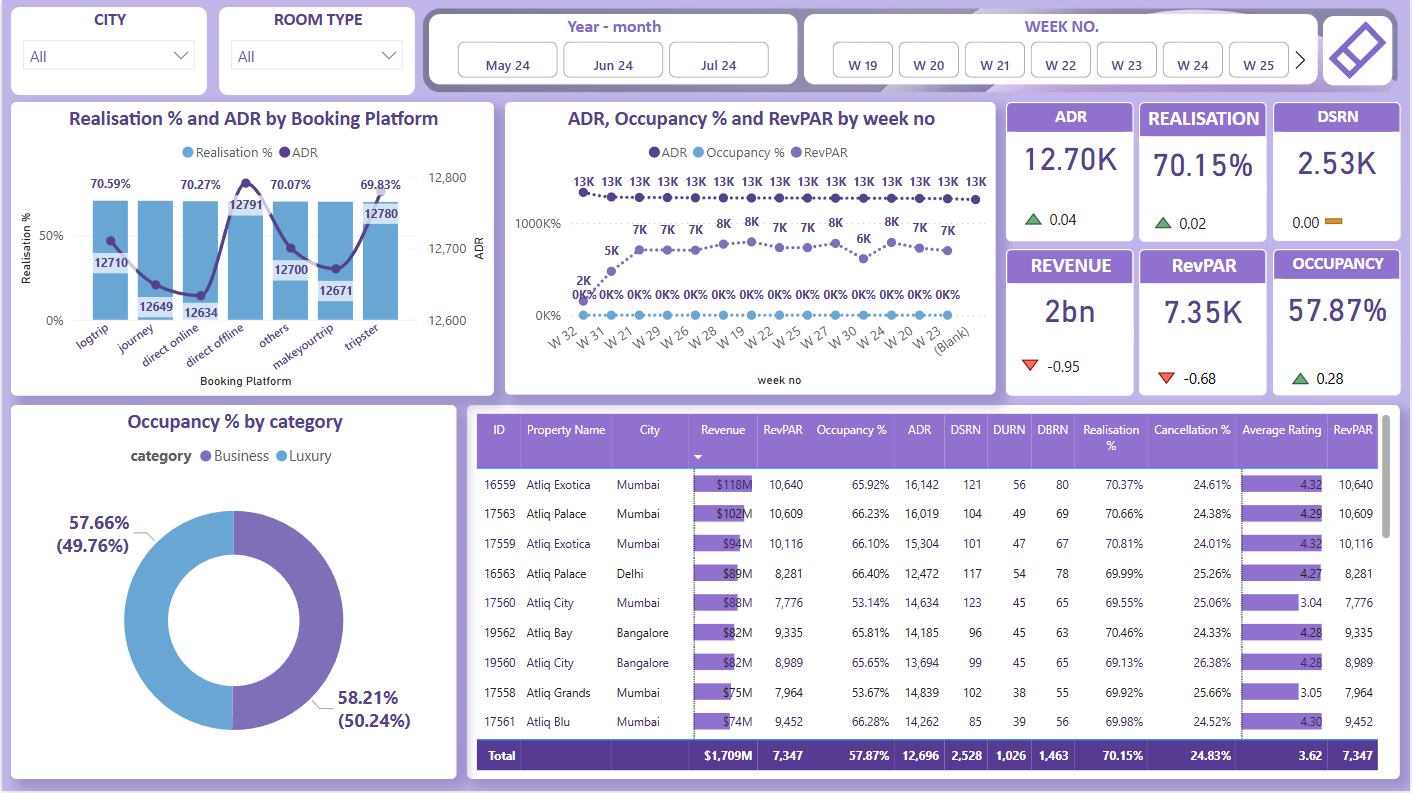

Layout of this report page (visuals, bound fields, positions):
{"tool":"powerbi","page":{"name":"Page 1","canvas":[1280,720],"ordinal":0},"visuals":[{"type":"card","title":"ADR","fields":{"Values":["_Key_Measures.ADR"]},"box":[913,94,116,81],"z":0,"group":"g1"},{"type":"card","title":"DSRN","fields":{"Values":["_Key_Measures.DSRN"]},"box":[1155,94,116,87.7],"z":0,"group":"g2"},{"type":"card","title":"REVENUE","fields":{"Values":["_Key_Measures.Revenue"]},"box":[913,227,116,86.4],"z":0,"group":"g3"},{"type":"card","title":"RevPAR","fields":{"Values":["_Key_Measures.RevPAR"]},"box":[1034,227,116,87],"z":0,"group":"g4"},{"type":"card","title":"OCCUPANCY","fields":{"Values":["_Key_Measures.Occupancy %"]},"box":[1155,227,116,87],"z":0,"group":"g5"},{"type":"tableEx","fields":{"Values":["Dim_Hotels.property_id","Dim_Hotels.property_name","Dim_Hotels.city","_Key_Measures.Revenue","_Key_Measures.RevPAR","_Key_Measures.Occupancy %","_Key_Measures.ADR","_Key_Measures.DSRN","_Key_Measures.DURN","_Key_Measures.DBRN","_Key_Measures.Realisation %","_Key_Measures.Cancellation %"]},"box":[423,369,848,340],"z":0},{"type":"slicer","title":"CITY","fields":{"Values":["Dim_Hotels.city"]},"box":[8,7,178,80],"z":1000},{"type":"card","title":"REALISATION","fields":{"Values":["_Key_Measures.Realisation %"]},"box":[1034,94,115.6,87],"z":1000,"group":"g6"},{"type":"tableEx","fields":{"Values":["_Key_Measures.ADR WoW change %"]},"box":[913.3,168,115.7,53],"z":1000,"group":"g1"},{"type":"tableEx","fields":{"Values":["_Key_Measures.DSRN WoW change %"]},"box":[1155,170.6,116,50.4],"z":1000,"group":"g2"},{"type":"tableEx","fields":{"Values":["_Key_Measures.Revenue WoW change %"]},"box":[913,293.5,116,66.5],"z":1000,"group":"g3"},{"type":"tableEx","fields":{"Values":["_Key_Measures.Revpar WoW change %"]},"box":[1034,306,116,54],"z":1000,"group":"g4"},{"type":"tableEx","fields":{"Values":["_Key_Measures.Occupancy WoW change %"]},"box":[1155,306,116,54],"z":1000,"group":"g5"},{"type":"slicer","title":"ROOM TYPE","fields":{"Values":["Dim_Rooms.room_class"]},"box":[197,7,178,80],"z":2000},{"type":"lineStackedColumnComboChart","fields":{"Category":["fact_bookings.booking_platform"],"Y2":["_Key_Measures.ADR"],"Y":["_Key_Measures.Realisation %"]},"box":[8,94,439,267],"z":2500},{"type":"advancedSlicerVisual","title":"WEEK NO.","fields":{"Values":["Dim_date.week no"]},"box":[729,14,467,64],"z":3000},{"type":"tableEx","fields":{"Values":["_Key_Measures.Realisation WoW change %"]},"box":[1034.4,164,115.6,57],"z":3000,"group":"g6"},{"type":"donutChart","fields":{"Category":["Dim_Hotels.category"],"Y":["_Key_Measures.Occupancy %"]},"box":[8,369,405,340],"z":4000},{"type":"lineChart","fields":{"Y":["_Key_Measures.ADR","_Key_Measures.Occupancy %","_Key_Measures.RevPAR"],"Category":["Dim_date.week no"]},"box":[457,94,446,266],"z":6000},{"type":"actionButton","box":[1201,15,63,63],"z":7000},{"type":"advancedSlicerVisual","title":"Year - month","fields":{"Values":["Dim_date.mmm yy"]},"box":[388,14,335,64],"z":8000},{"type":"group","id":"g1","title":"ADR","box":[913,94,116,127],"z":9000},{"type":"group","id":"g2","title":"DSRN","box":[1155,94,116,127],"z":10000},{"type":"group","id":"g3","title":"REVENUE","box":[913,227,116,133],"z":11000},{"type":"group","id":"g4","title":"Group 1","box":[1034,227,116,133],"z":12000},{"type":"group","id":"g5","title":"Group 2","box":[1155,227,116,133],"z":13000},{"type":"group","id":"g6","title":"Group 3","box":[1034,94,116,127],"z":14000}]}

Visuals, with their boxes in screenshot pixels (x1, y1, x2, y2), scaled from the page's 1280x720 canvas onto the 1412x793 screenshot:
"ADR" card: bbox=[1007, 104, 1135, 193]
"DSRN" card: bbox=[1274, 104, 1402, 200]
"REVENUE" card: bbox=[1007, 250, 1135, 345]
"RevPAR" card: bbox=[1141, 250, 1269, 346]
"OCCUPANCY" card: bbox=[1274, 250, 1402, 346]
tableEx - Dim_Hotels.property_id x Dim_Hotels.property_name: bbox=[467, 406, 1402, 781]
"CITY" slicer: bbox=[9, 8, 205, 96]
"REALISATION" card: bbox=[1141, 104, 1268, 199]
tableEx - _Key_Measures.ADR WoW change %: bbox=[1007, 185, 1135, 243]
tableEx - _Key_Measures.DSRN WoW change %: bbox=[1274, 188, 1402, 243]
tableEx - _Key_Measures.Revenue WoW change %: bbox=[1007, 323, 1135, 397]
tableEx - _Key_Measures.Revpar WoW change %: bbox=[1141, 337, 1269, 397]
tableEx - _Key_Measures.Occupancy WoW change %: bbox=[1274, 337, 1402, 397]
"ROOM TYPE" slicer: bbox=[217, 8, 414, 96]
lineStackedColumnComboChart - fact_bookings.booking_platform x _Key_Measures.ADR: bbox=[9, 104, 493, 398]
"WEEK NO." advancedSlicerVisual: bbox=[804, 15, 1319, 86]
tableEx - _Key_Measures.Realisation WoW change %: bbox=[1141, 181, 1269, 243]
donutChart - Dim_Hotels.category x _Key_Measures.Occupancy %: bbox=[9, 406, 456, 781]
lineChart - _Key_Measures.ADR x _Key_Measures.Occupancy %: bbox=[504, 104, 996, 397]
actionButton: bbox=[1325, 17, 1394, 86]
"Year - month" advancedSlicerVisual: bbox=[428, 15, 798, 86]
"ADR" group: bbox=[1007, 104, 1135, 243]
"DSRN" group: bbox=[1274, 104, 1402, 243]
"REVENUE" group: bbox=[1007, 250, 1135, 397]
"Group 1" group: bbox=[1141, 250, 1269, 397]
"Group 2" group: bbox=[1274, 250, 1402, 397]
"Group 3" group: bbox=[1141, 104, 1269, 243]
